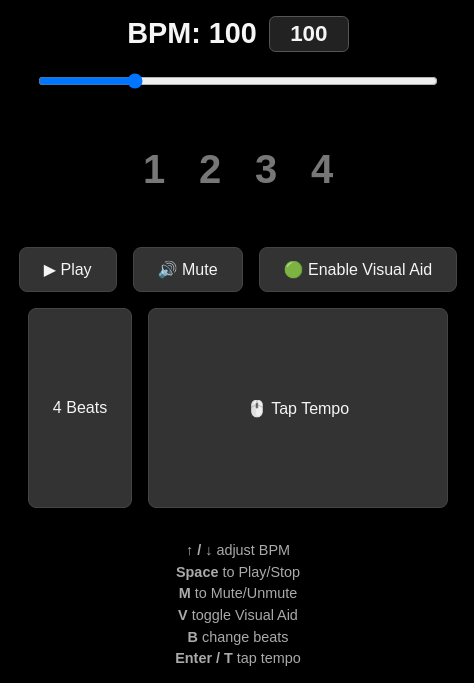
Scenario: App › changes play state when play button is clicked
Click the button "▶ Play".
click(68, 270)  # box [19,247,117,292]
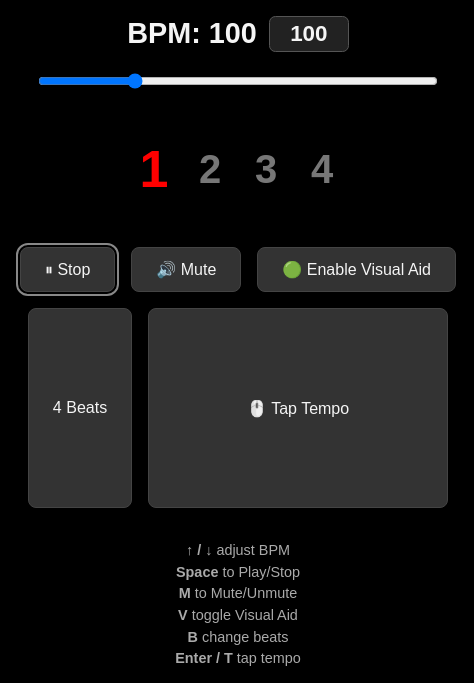
Expected: the button "⏸ Stop" is shown, [20,247,115,292]
